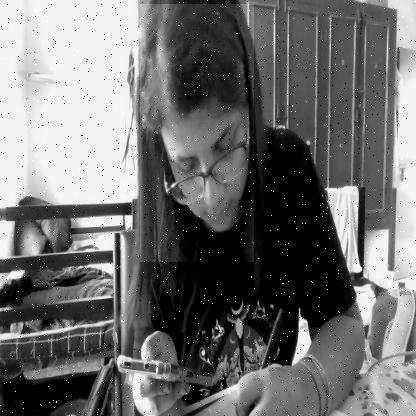Normal: (140, 4, 254, 262)
